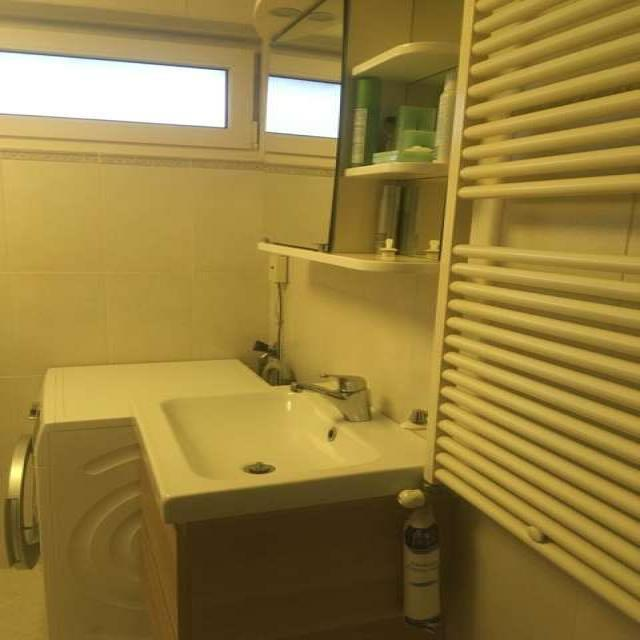designradiator: (397, 0, 640, 624)
wastafel: (140, 432, 442, 640), (131, 372, 435, 497)
